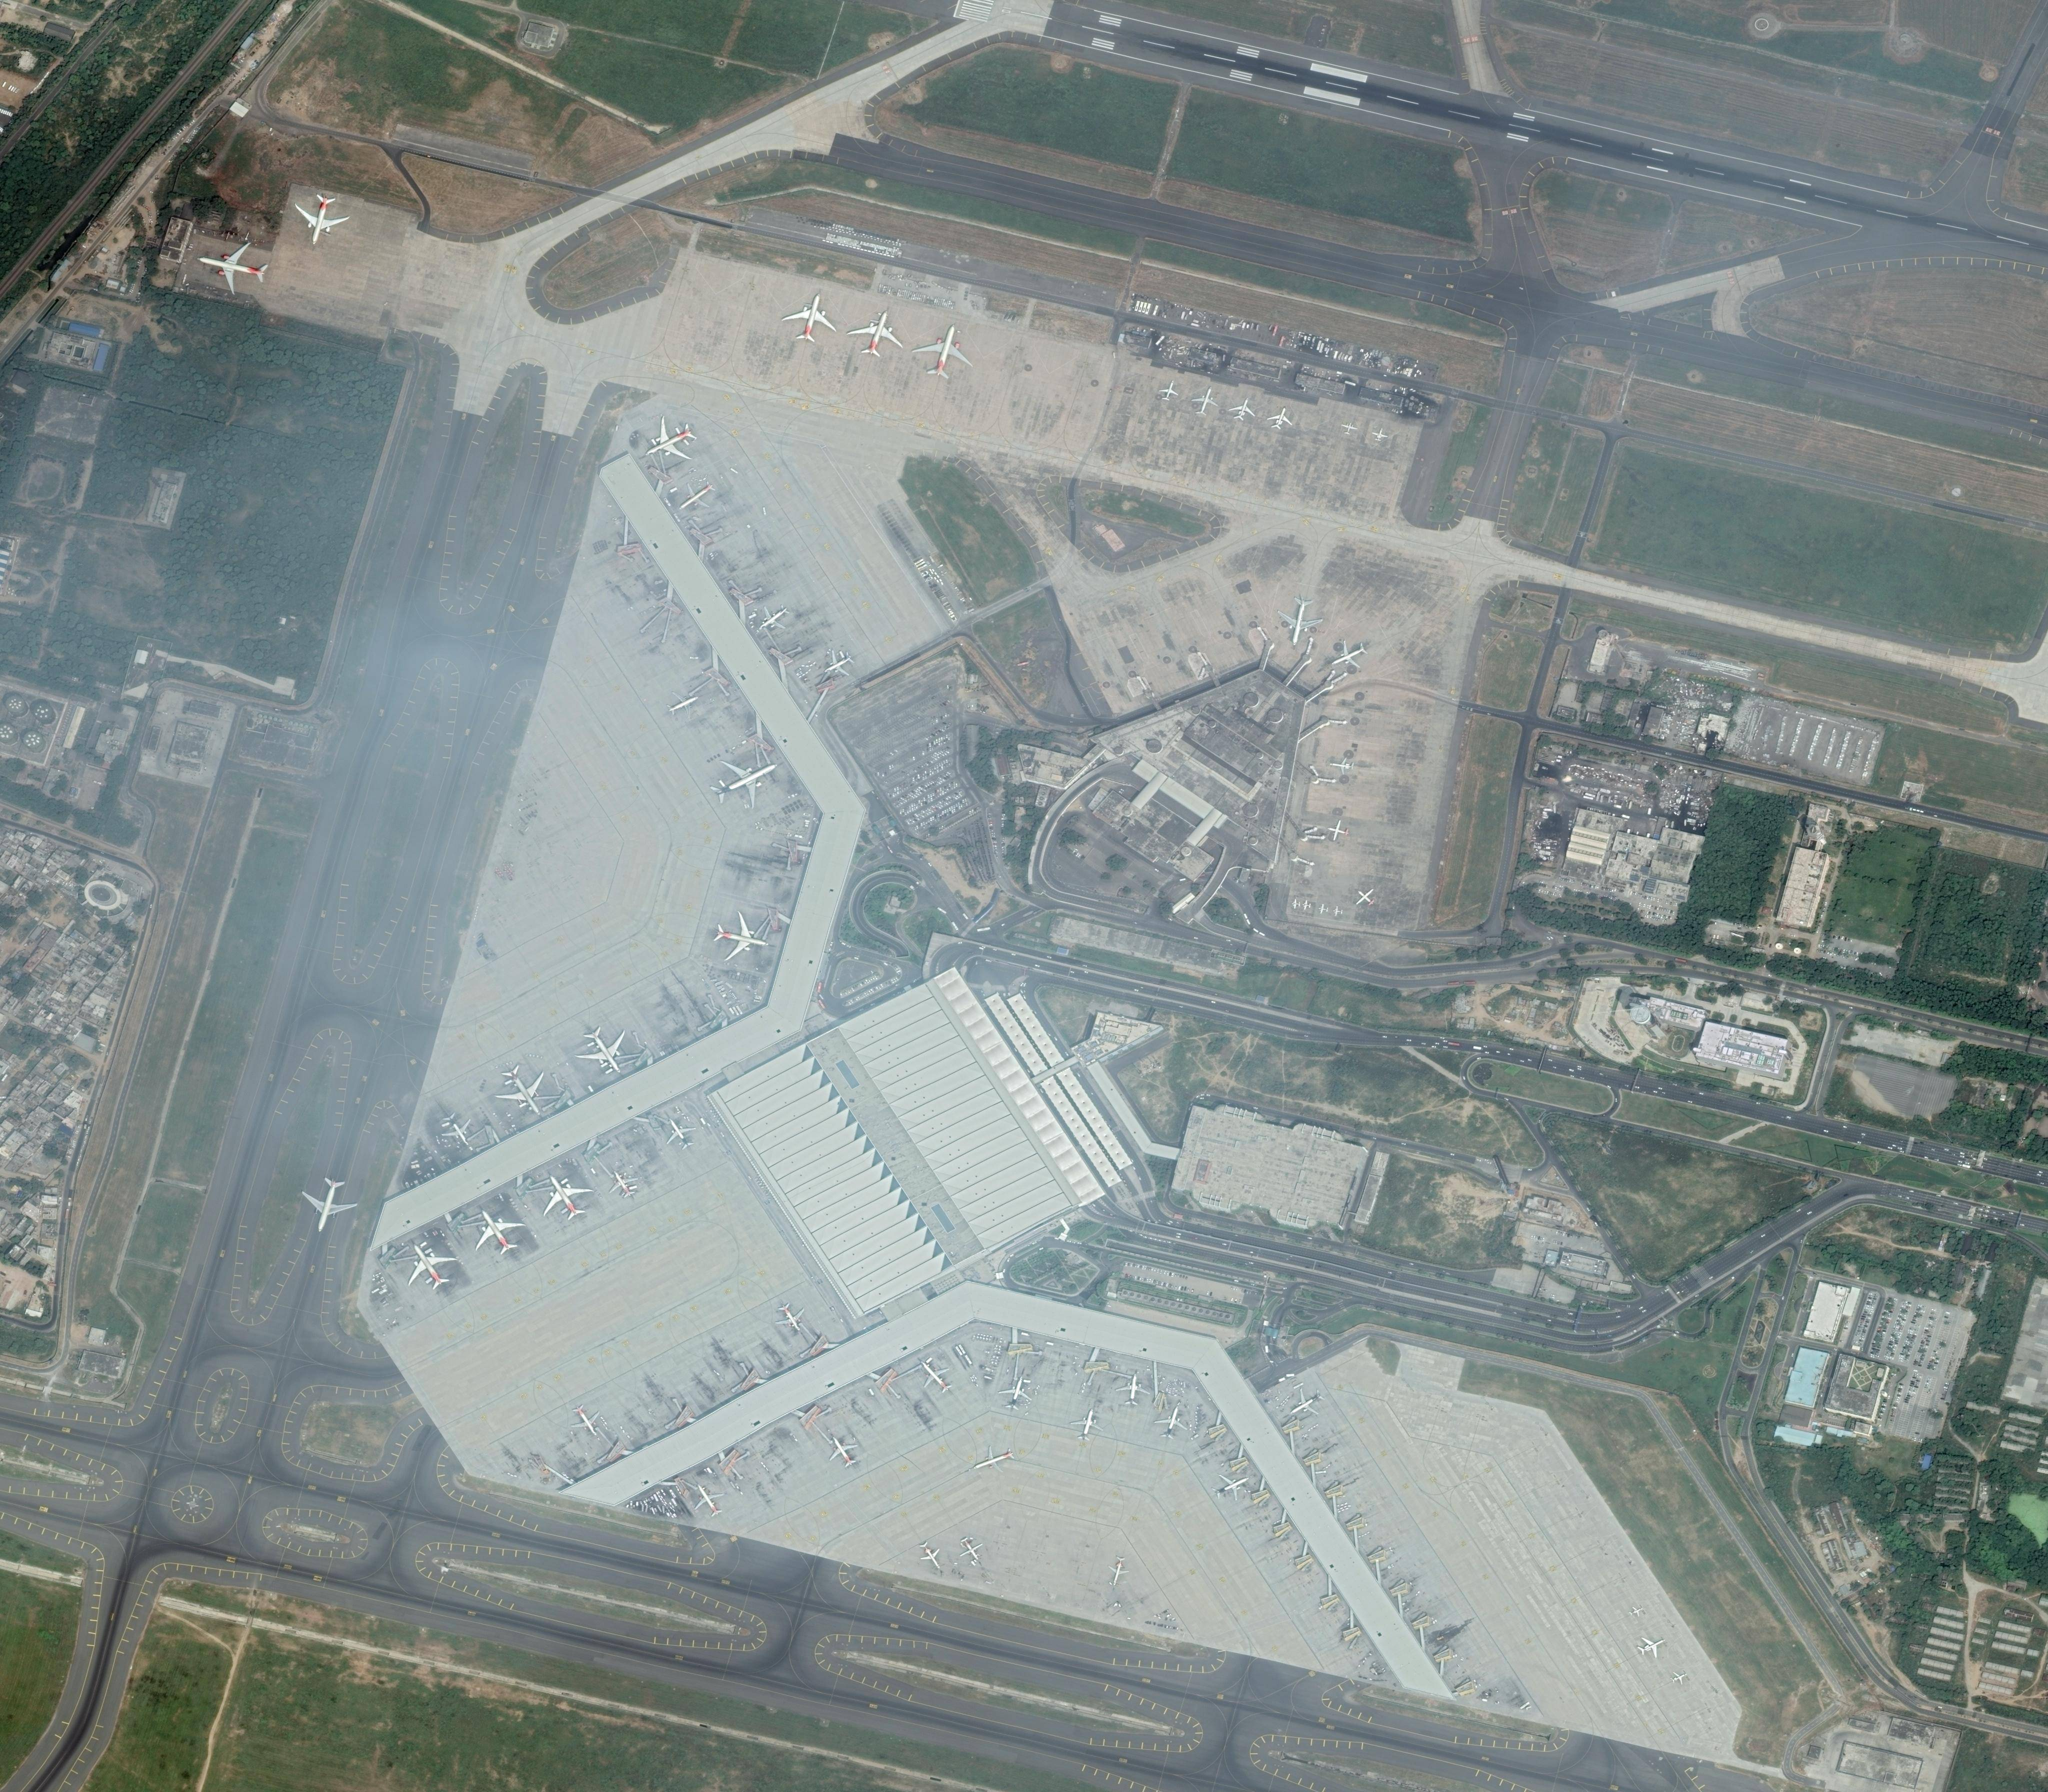plane: (698, 740, 794, 820), (190, 230, 275, 303), (482, 1050, 561, 1128), (630, 404, 712, 477), (568, 1012, 644, 1085), (529, 1160, 604, 1233), (392, 1228, 467, 1301), (460, 1196, 536, 1268), (839, 300, 913, 371), (906, 319, 980, 388), (705, 902, 775, 973), (294, 1170, 366, 1240), (777, 286, 845, 352), (287, 188, 354, 253), (1273, 590, 1325, 651), (911, 1348, 965, 1404), (1202, 1461, 1261, 1512), (817, 1425, 869, 1477), (683, 1473, 733, 1526), (1320, 632, 1376, 677), (669, 474, 724, 519), (432, 1104, 482, 1153), (765, 1294, 817, 1341), (561, 1397, 611, 1444), (749, 596, 799, 643), (967, 1438, 1022, 1480), (1149, 1398, 1196, 1447), (657, 1109, 704, 1156), (1280, 1381, 1332, 1423), (994, 1371, 1040, 1418), (657, 684, 705, 728), (1066, 1404, 1109, 1447), (817, 643, 862, 684), (911, 1533, 953, 1576), (603, 1163, 646, 1205), (953, 1531, 993, 1571), (1630, 1628, 1674, 1665), (1115, 1371, 1153, 1411), (1188, 383, 1224, 420), (1263, 401, 1297, 434), (1224, 395, 1261, 427), (1104, 1553, 1134, 1590), (1350, 883, 1383, 914), (1324, 817, 1351, 845), (1155, 380, 1184, 406), (1329, 752, 1358, 777), (1667, 1667, 1693, 1689), (1337, 420, 1360, 439), (1369, 427, 1390, 446), (1625, 1604, 1646, 1621), (1331, 904, 1346, 920), (1317, 902, 1331, 916), (1301, 899, 1311, 913), (1290, 897, 1301, 911)
storage tank: (19, 728, 51, 758), (31, 698, 59, 730), (5, 691, 30, 719), (2, 721, 16, 747)
